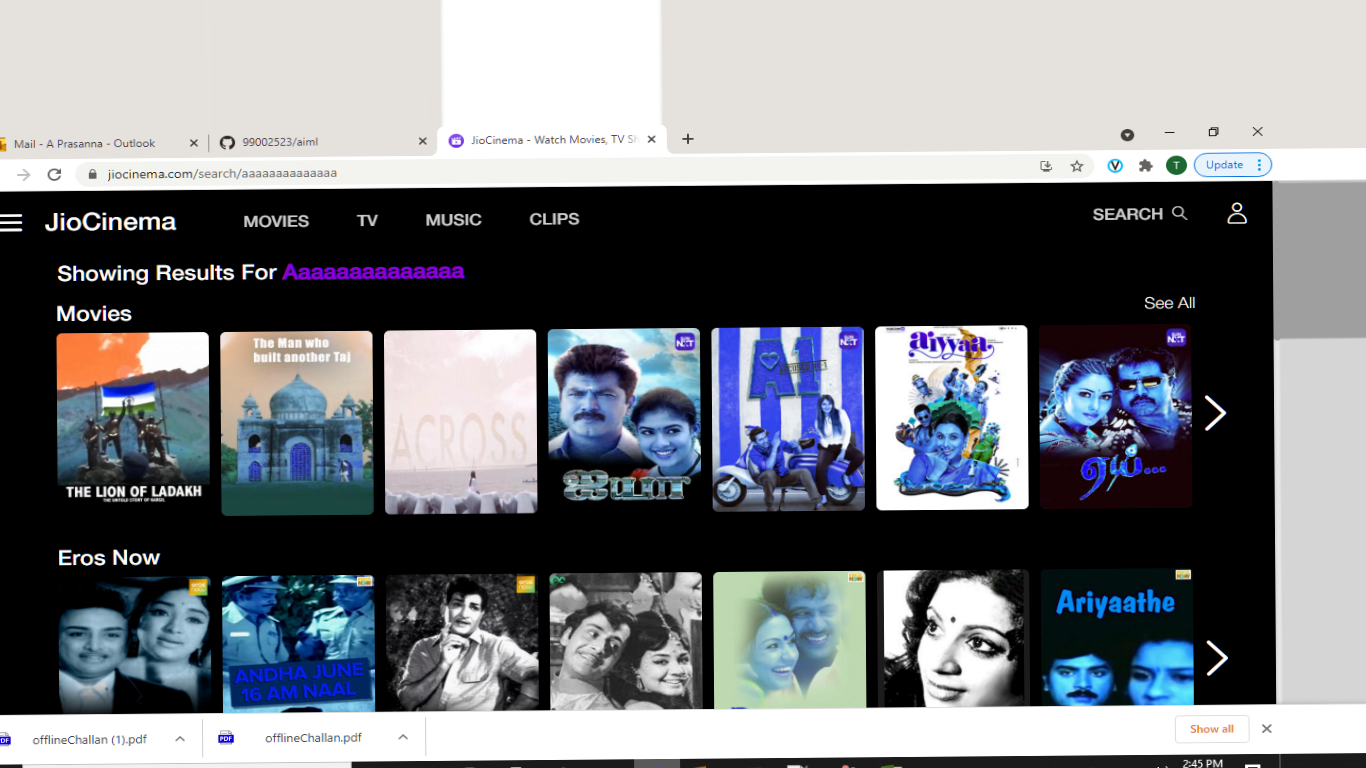noresultsfound: (48, 248, 475, 296)
profileicon: (1208, 197, 1263, 235)
searchicon: (1088, 193, 1201, 230)
